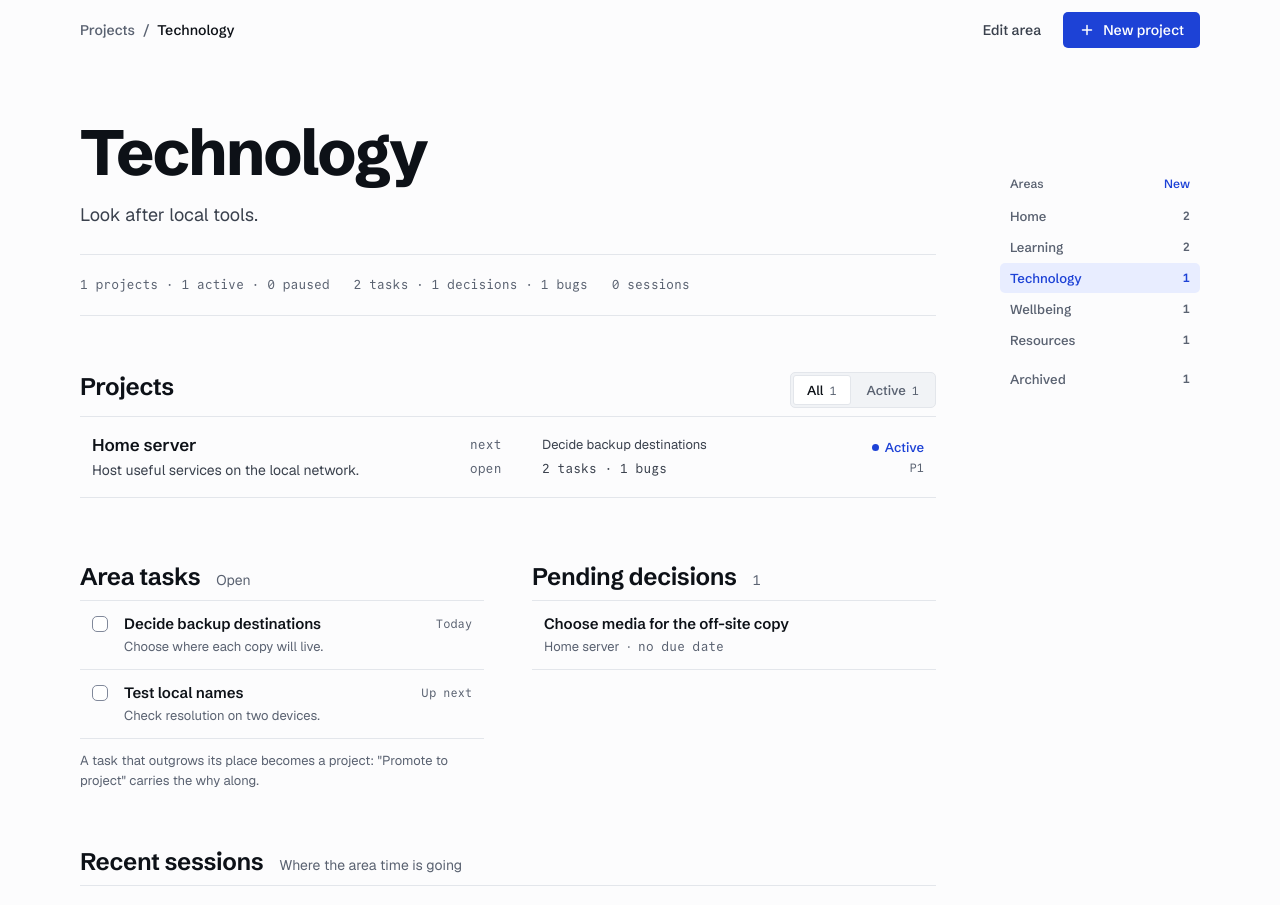
Scenario: area view writing to its source › keeps the area as it was, and the form open, when the save fails
This screenshot has width=1280, height=905.
Click the button with class "ghost": (1012, 30) [973,14,1051,46]
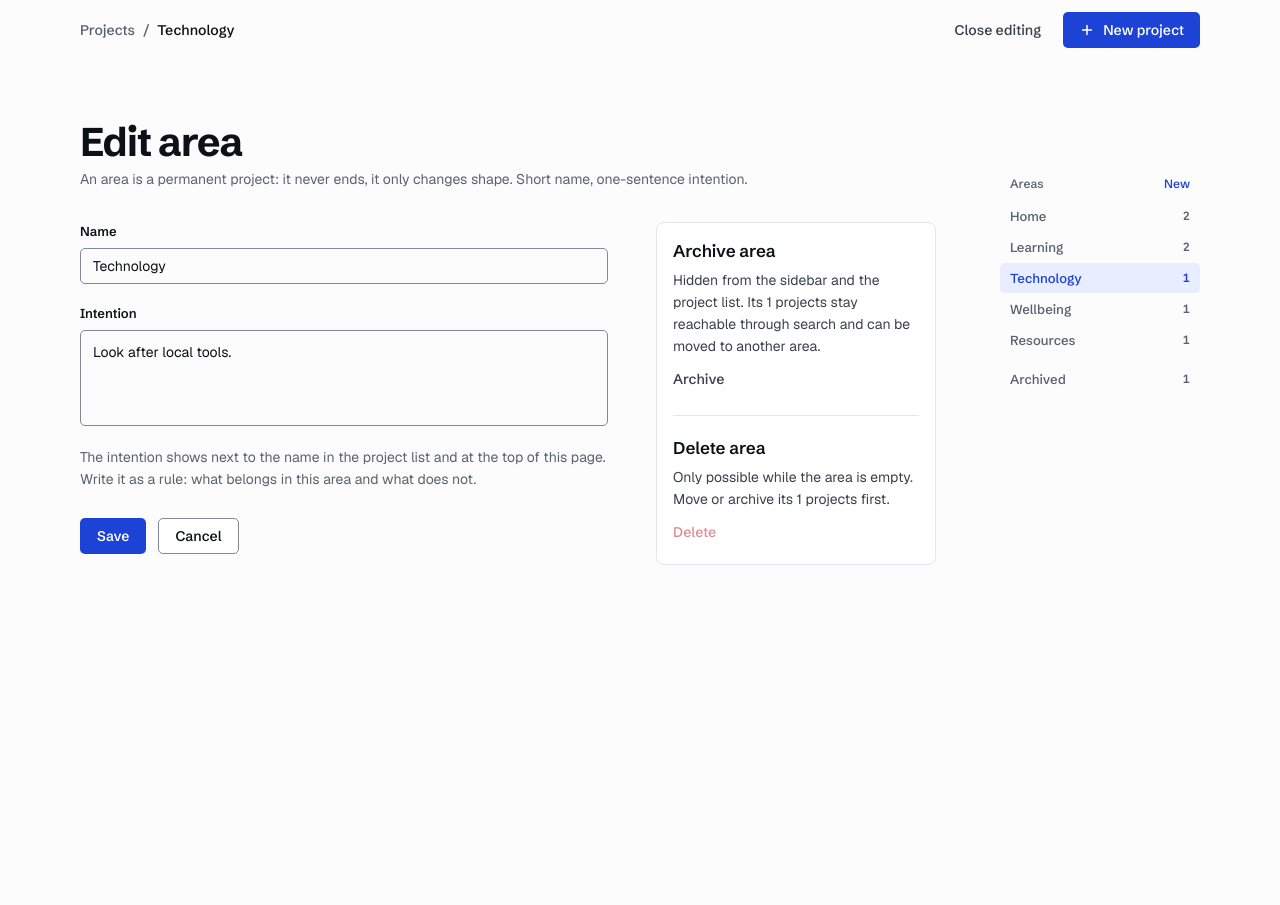
Replace the text in the field labelled "Name" with "Tools": (344, 266) [80,248,608,284]
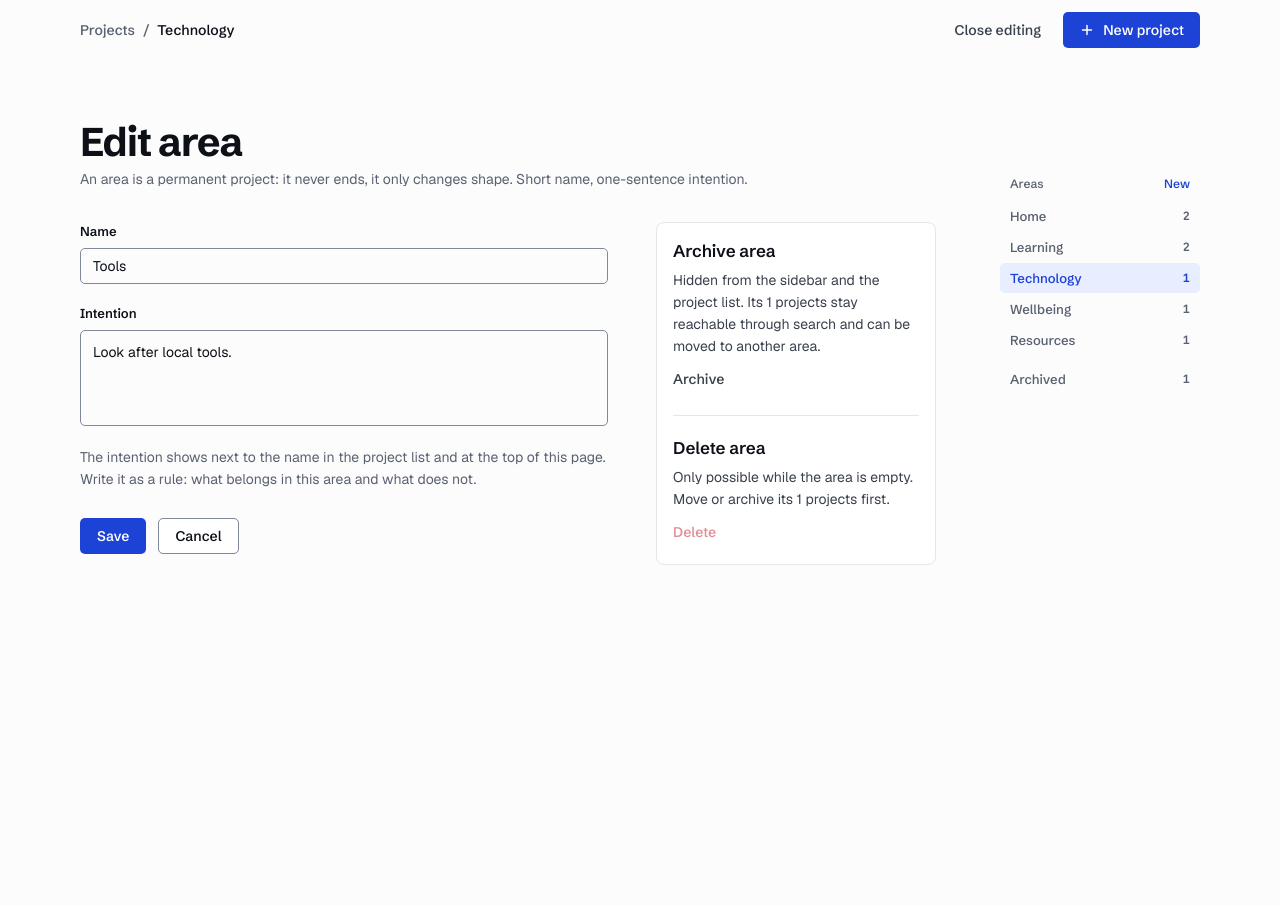
Replace the text in the text box labelled "Intention" with "Look after what I use every day.": (344, 378) [80,330,608,426]
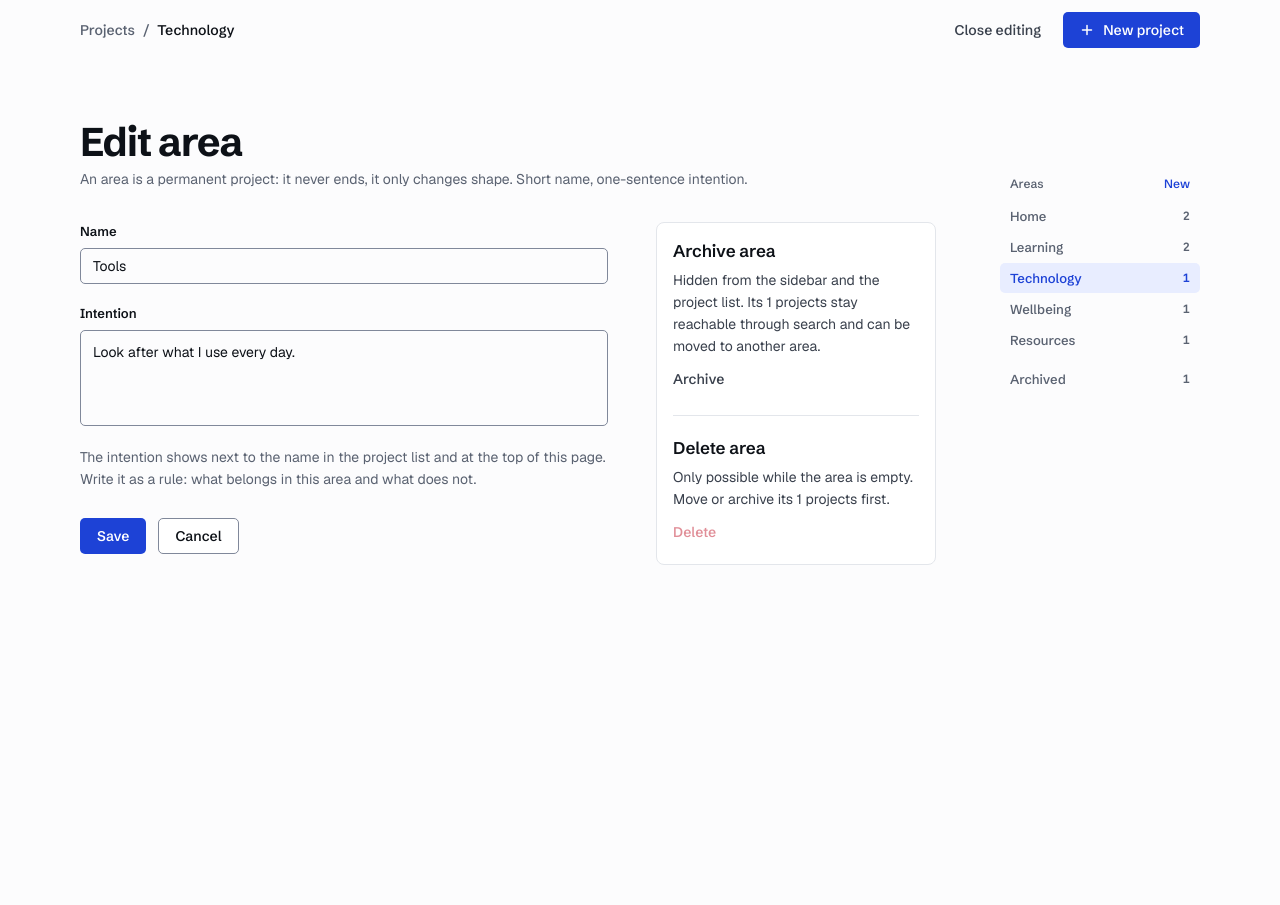
Click the button with class "nt-btn" showing "Save": (113, 536) [80,518,146,554]
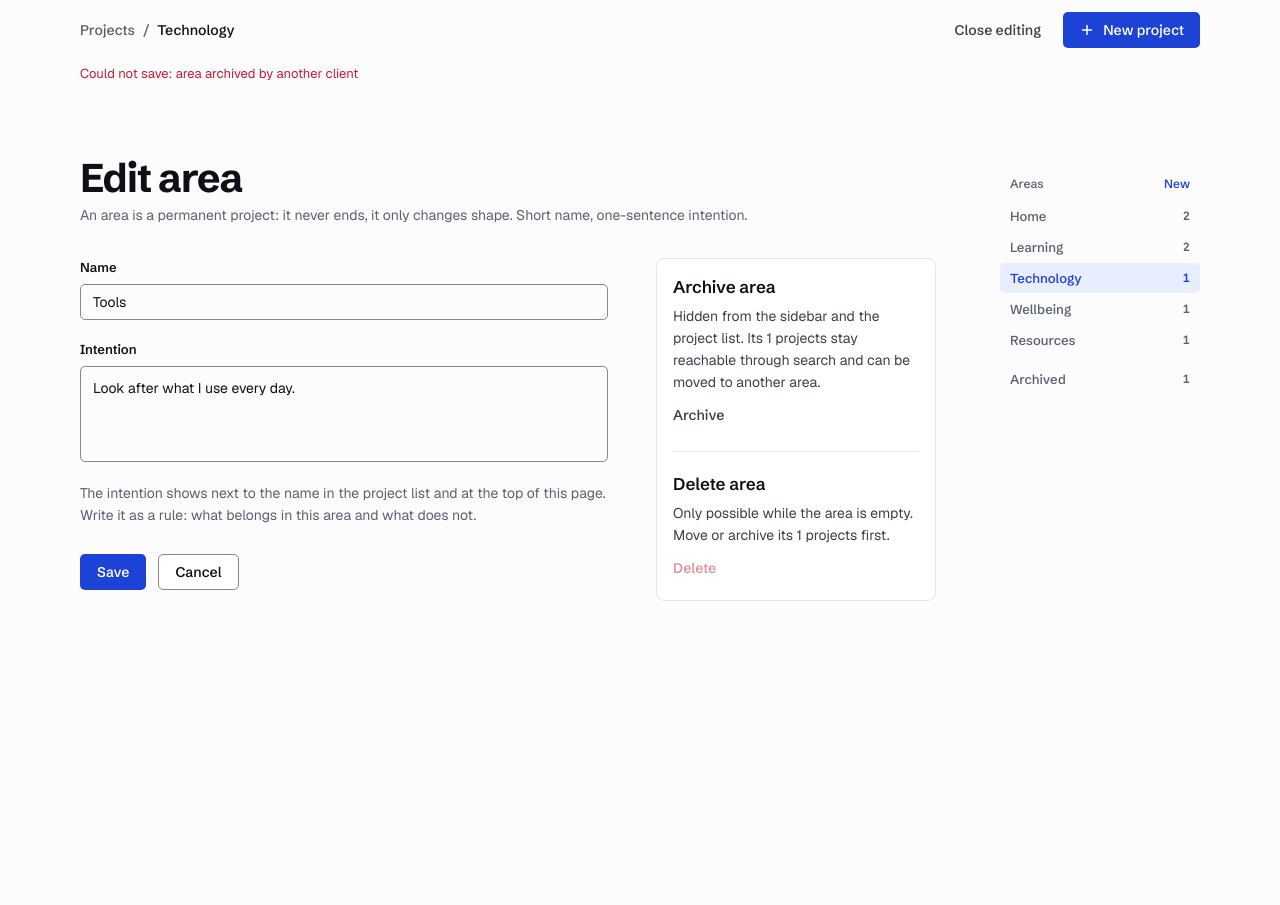
expect the text with class "crumb-current" reads "Technology": met, box [157,21,235,39]
expect the message with class "area-write-error" reads "Could not save: area archived by another client": met, box [80,65,358,82]
